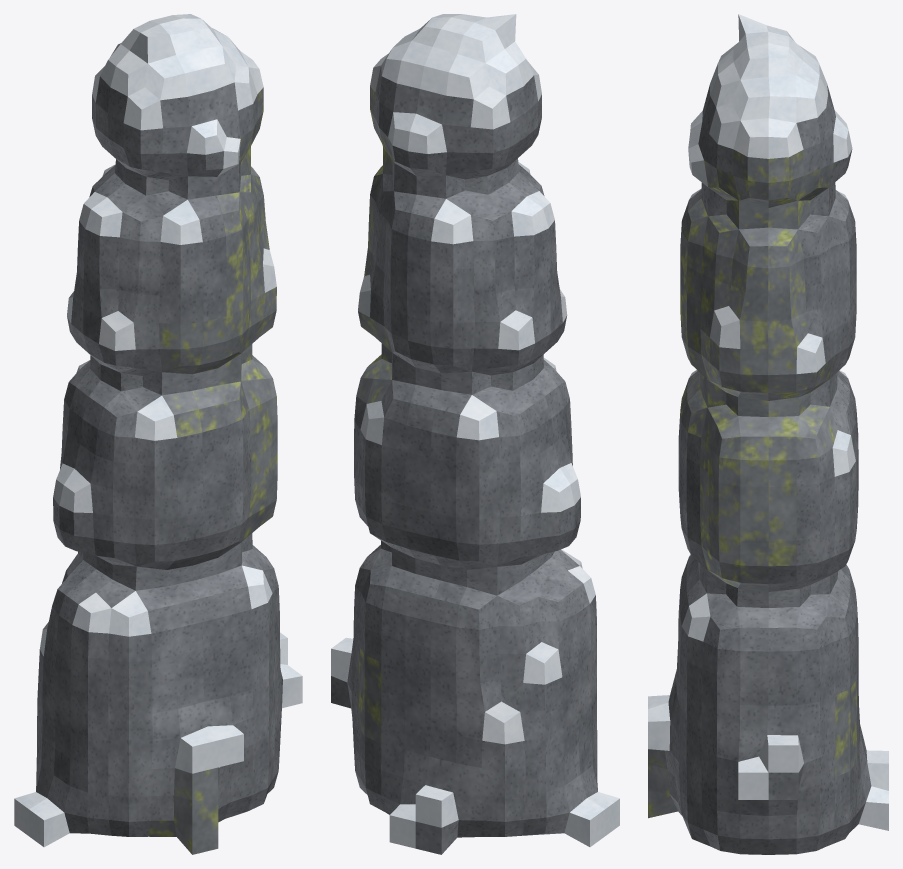
The model's file is landmark_waystone_snow.glb.
3 views of the same model, side by side, from view 1: azimuth 30°, elevation 25°; view 2: azimuth 150°, elevation 25°; view 3: azimuth 270°, elevation 25° (orthographic).
Parts seen in each view (by area): view 1: wilds_landmark_waystone_snow; view 2: wilds_landmark_waystone_snow; view 3: wilds_landmark_waystone_snow.
Boxes of the visible parts, x1,y1,x2,y2 form: wilds_landmark_waystone_snow: [14, 14, 302, 854]; wilds_landmark_waystone_snow: [331, 14, 619, 854]; wilds_landmark_waystone_snow: [648, 14, 888, 854].
Bounding box in the file's own units: 0.625 × 1.81 × 0.5.
Materials: 1 (1 with a texture image).
